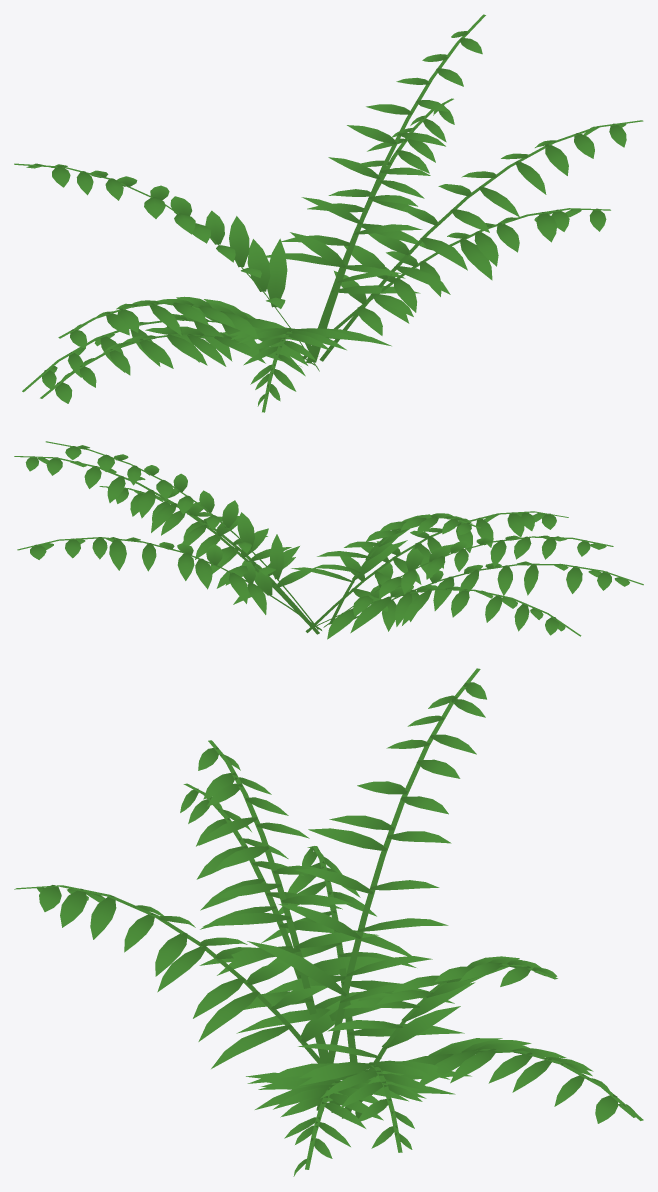
The model's file is fern1_s7950.gltf.
The picture shows the model from 3 angles, top to bottom: view 1: azimuth 30°, elevation 25°; view 2: azimuth 150°, elevation 25°; view 3: azimuth 270°, elevation 25°; orthographic projection. The views are drawn at different scales.
Visible parts, largest first — view 1: fern1_s7950_leaf_LOD0, fern1_s7950_stalk_LOD0; view 2: fern1_s7950_leaf_LOD0, fern1_s7950_stalk_LOD0; view 3: fern1_s7950_leaf_LOD0, fern1_s7950_stalk_LOD0.
Part boxes in pixels (box(x1,y1,x2,y2)): fern1_s7950_leaf_LOD0: box(26, 31, 626, 406); fern1_s7950_stalk_LOD0: box(14, 14, 643, 412); fern1_s7950_leaf_LOD0: box(25, 445, 629, 639); fern1_s7950_stalk_LOD0: box(14, 441, 643, 636); fern1_s7950_leaf_LOD0: box(37, 682, 637, 1176); fern1_s7950_stalk_LOD0: box(14, 668, 643, 1169).
Size of what is drawn, in the model's own units: 1.84 by 0.5804 by 1.12.
